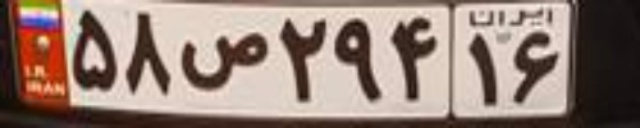1: (466, 33, 499, 104)
2: (272, 16, 327, 101)
4: (393, 18, 437, 99)
5: (70, 10, 118, 88)
6: (512, 31, 559, 102)
8: (125, 12, 176, 95)
9: (334, 20, 390, 100)
saat: (185, 32, 267, 88)
